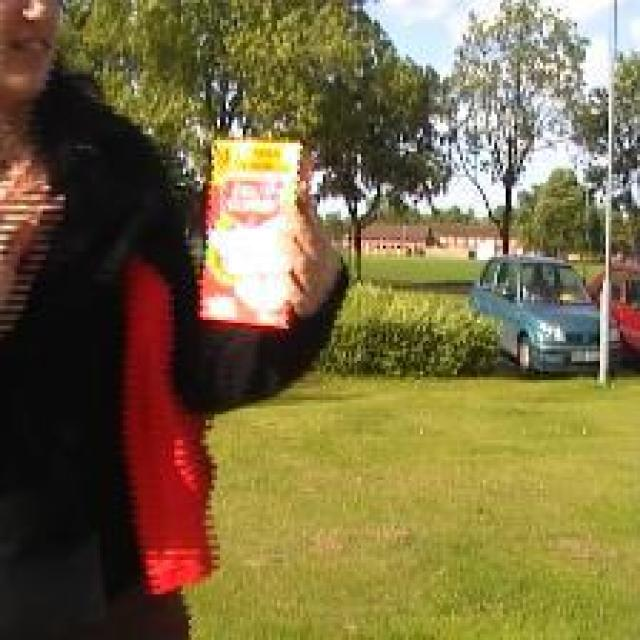other: (101, 257, 229, 579), (200, 125, 301, 323)
